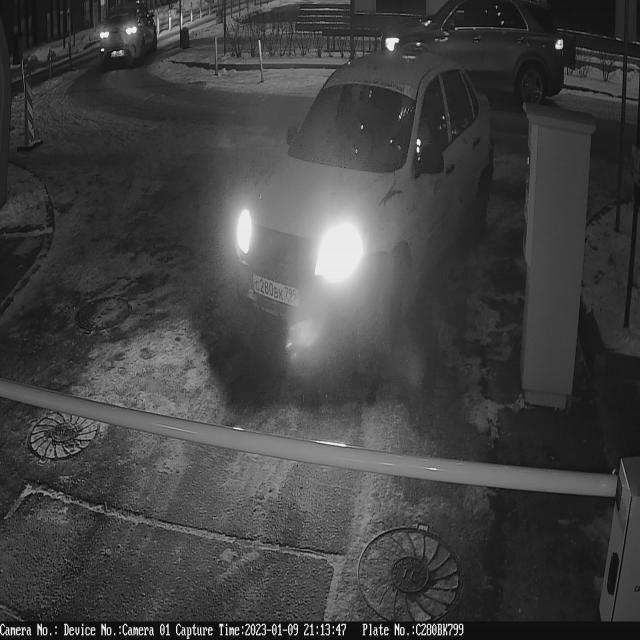car-plate-numbers: (251, 271, 304, 313)
